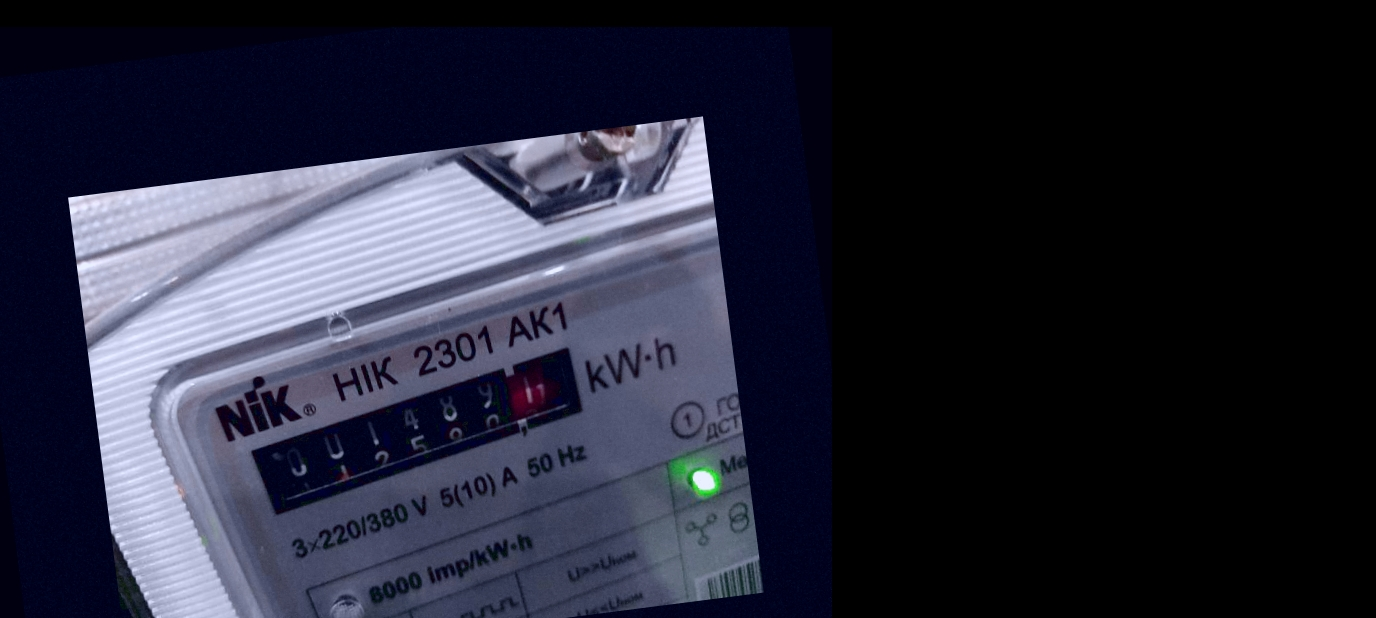0: (317, 425, 348, 464), (281, 443, 310, 481)
1: (515, 368, 538, 408), (360, 416, 384, 449)
4: (397, 401, 423, 434)
8: (435, 388, 461, 426)
9: (473, 377, 497, 411)
screen: (230, 333, 621, 530)
